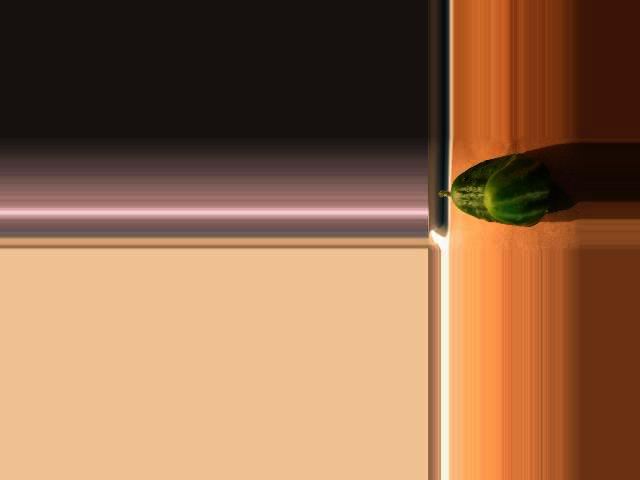cucumber: (437, 154, 550, 227)
